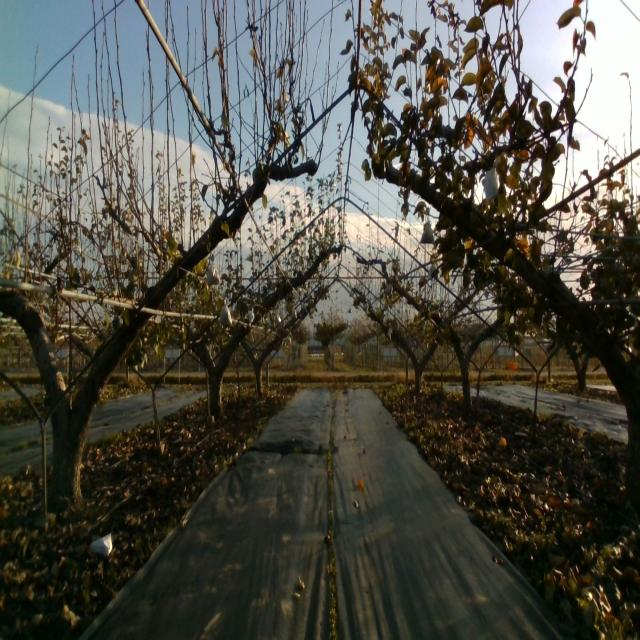pearbags: (483, 167, 498, 200), (419, 222, 435, 244), (219, 300, 233, 324), (207, 263, 220, 286), (427, 262, 439, 280)
